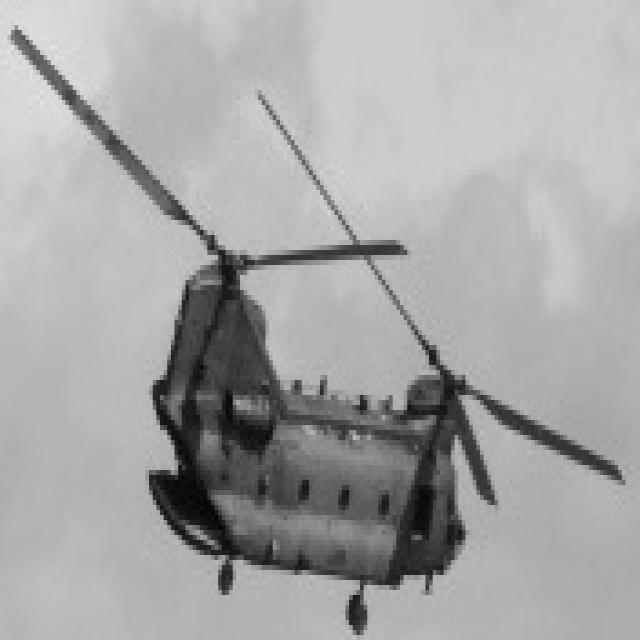Helicopter: (11, 34, 622, 585)
